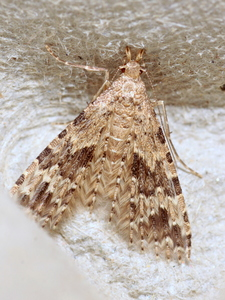Alucitidae: (12, 43, 207, 270)
moth: (10, 41, 205, 268)
